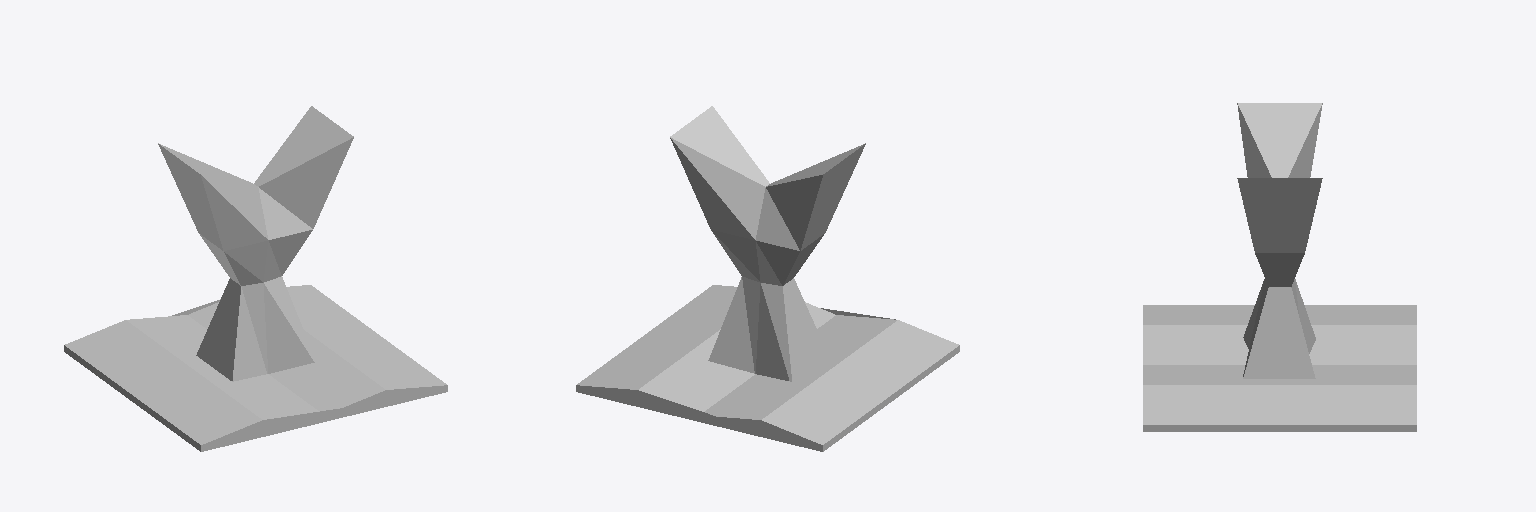
File: tanaman_tanah.obj
3 views of the same model, side by side, from view 1: azimuth 30°, elevation 25°; view 2: azimuth 150°, elevation 25°; view 3: azimuth 270°, elevation 25° (orthographic).
Visible parts, largest first — view 1: Cube, Cube.001; view 2: Cube, Cube.001; view 3: Cube, Cube.001.
Part boxes in pixels (x1,y1,x2,y2): Cube: (64, 285, 447, 451); Cube.001: (158, 106, 353, 381); Cube: (576, 285, 959, 451); Cube.001: (670, 106, 865, 381); Cube: (1143, 305, 1416, 431); Cube.001: (1237, 103, 1322, 378).
Bounding box in the file's own units: 4.28 × 3.84 × 4.12.